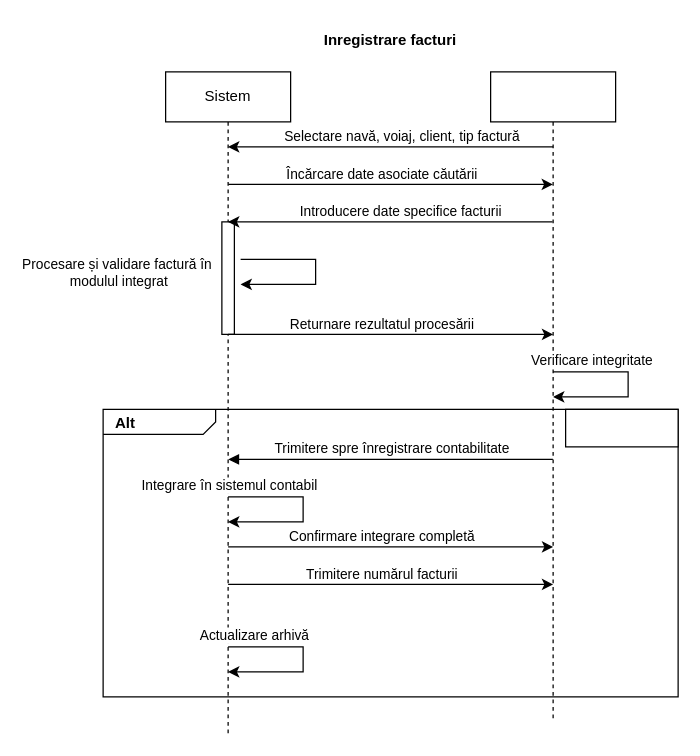
This 700x756 diagram has some shape labels left out. Each missing label, with the centre of its shape:
"Angajat financiar" belongs at point (552, 396).
"if procesată corect" belongs at point (621, 427).
